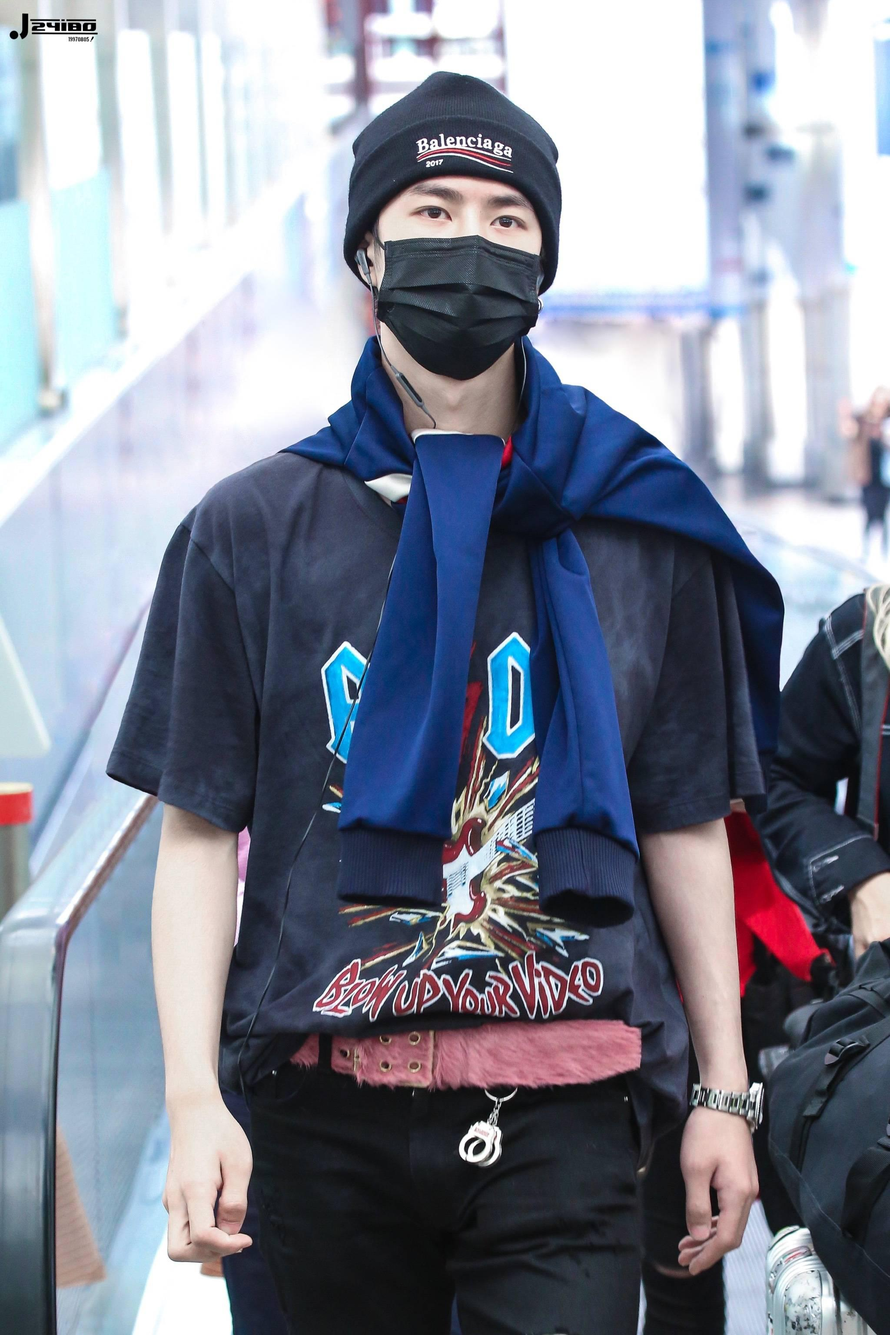OK: (375, 166, 542, 382)
